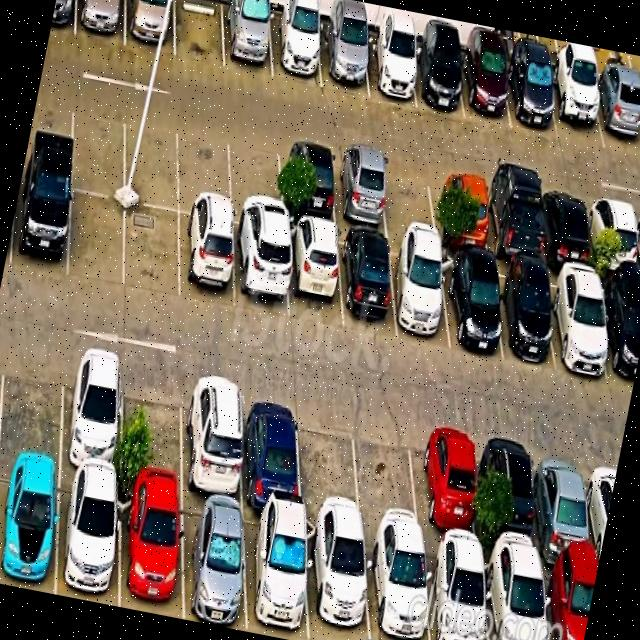empty: (354, 408, 423, 540), (0, 338, 64, 467), (299, 397, 362, 528), (122, 360, 183, 494), (68, 191, 126, 288), (229, 129, 283, 233), (125, 109, 180, 211), (71, 98, 125, 198), (125, 202, 179, 301), (179, 120, 231, 221), (381, 157, 437, 240), (175, 0, 225, 68)
occupied: (181, 496, 247, 632), (56, 471, 119, 607), (120, 484, 183, 619), (244, 508, 308, 640), (60, 347, 122, 480), (417, 417, 478, 551), (0, 461, 60, 594), (184, 372, 243, 505), (535, 439, 595, 569), (306, 519, 370, 640), (242, 384, 301, 514), (485, 429, 541, 560), (546, 267, 610, 378), (364, 533, 430, 640), (490, 261, 555, 365), (440, 253, 503, 360), (389, 241, 450, 350), (424, 541, 489, 640), (11, 175, 72, 278), (339, 231, 397, 336), (286, 221, 342, 329), (483, 552, 547, 640), (483, 176, 543, 265), (180, 214, 235, 310), (233, 226, 288, 320), (433, 167, 490, 253), (279, 140, 336, 225), (598, 275, 640, 389), (333, 148, 388, 233), (547, 68, 604, 149), (541, 561, 598, 640), (539, 185, 593, 268), (587, 193, 640, 277), (505, 56, 558, 139), (460, 48, 511, 128), (410, 43, 464, 118), (590, 75, 640, 156), (269, 11, 322, 87), (223, 1, 273, 78), (364, 33, 416, 107), (320, 25, 368, 96), (125, 0, 175, 55), (75, 0, 125, 45)
